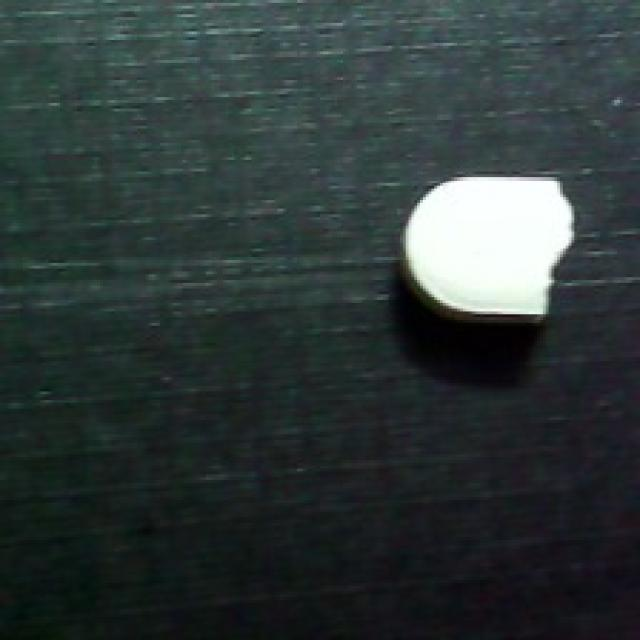defected: (400, 169, 577, 331)
